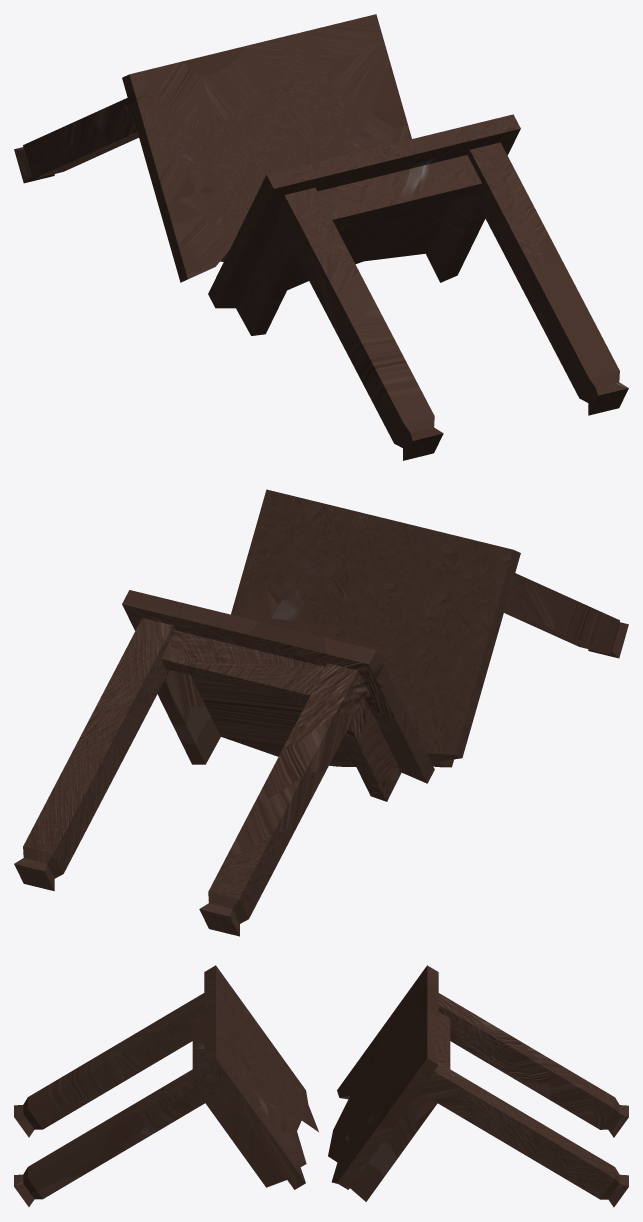
File: BrokenTable(4chairs)Complete.fbx
The picture shows the model from 3 angles, top to bottom: view 1: azimuth 30°, elevation 25°; view 2: azimuth 150°, elevation 25°; view 3: azimuth 270°, elevation 25°; orthographic projection. The views are drawn at different scales.
Parts seen in each view (by area): view 1: Table, Table.002, Table.004, Table.001; view 2: Table.004, Table, Table.002, Table.003; view 3: Table, Table.004, Table.002, Table.003, Table.001.
Boxes of the visible parts, x1,y1,x2,y2 form: Table: (208, 114, 619, 447); Table.002: (122, 14, 411, 282); Table.004: (23, 98, 138, 179); Table.001: (403, 382, 628, 460); Table.004: (23, 604, 427, 918); Table: (231, 489, 619, 767); Table.002: (122, 590, 434, 783); Table.003: (14, 846, 248, 936); Table: (23, 965, 318, 1199); Table.004: (350, 993, 614, 1201); Table.002: (328, 965, 438, 1189); Table.003: (600, 1097, 628, 1207); Table.001: (14, 1105, 34, 1206).
Bounding box in the file's own units: 80 × 62.4 × 224.
Materials: 5 (5 with a texture image).
